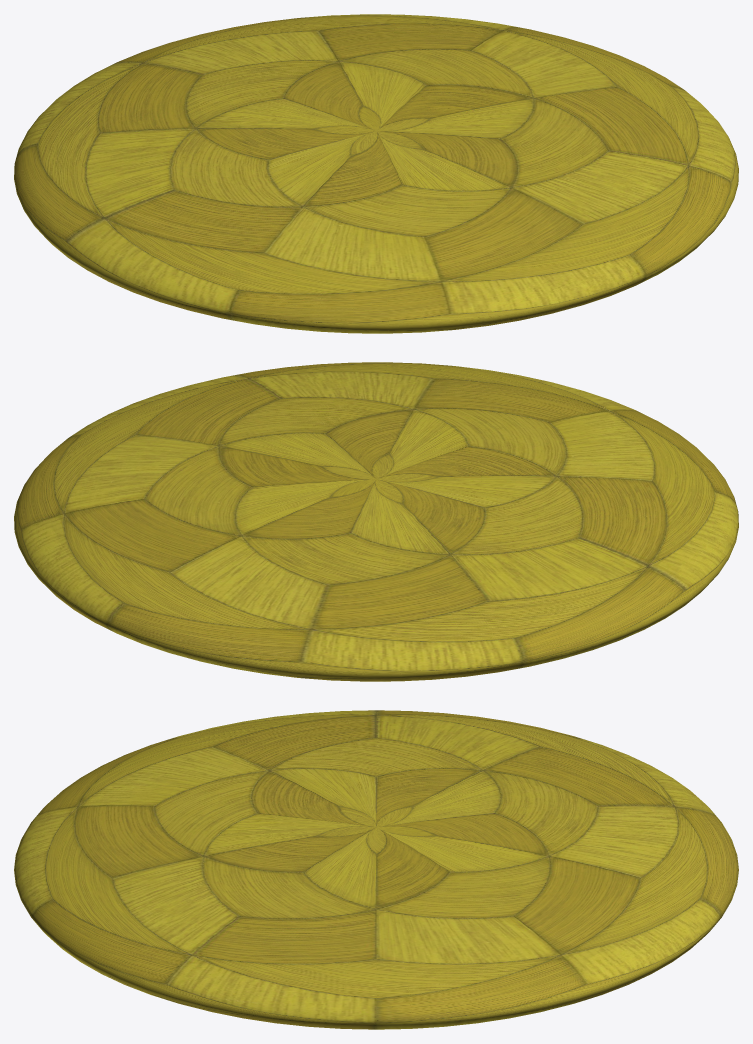
The model's file is DiscYellow.glb.
3 renders of one model, top to bottom at view 1: azimuth 30°, elevation 25°; view 2: azimuth 150°, elevation 25°; view 3: azimuth 270°, elevation 25°, orthographic.
Visible parts, largest first — view 1: Sphere; view 2: Sphere; view 3: Sphere.
Part boxes in pixels (left/top/right/bottom): Sphere: left=14, top=14, right=738, bottom=333; Sphere: left=14, top=362, right=738, bottom=681; Sphere: left=14, top=710, right=738, bottom=1029.
Bounding box in the file's own units: 2 × 0.2604 × 2.
Materials: 1 (1 with a texture image).
